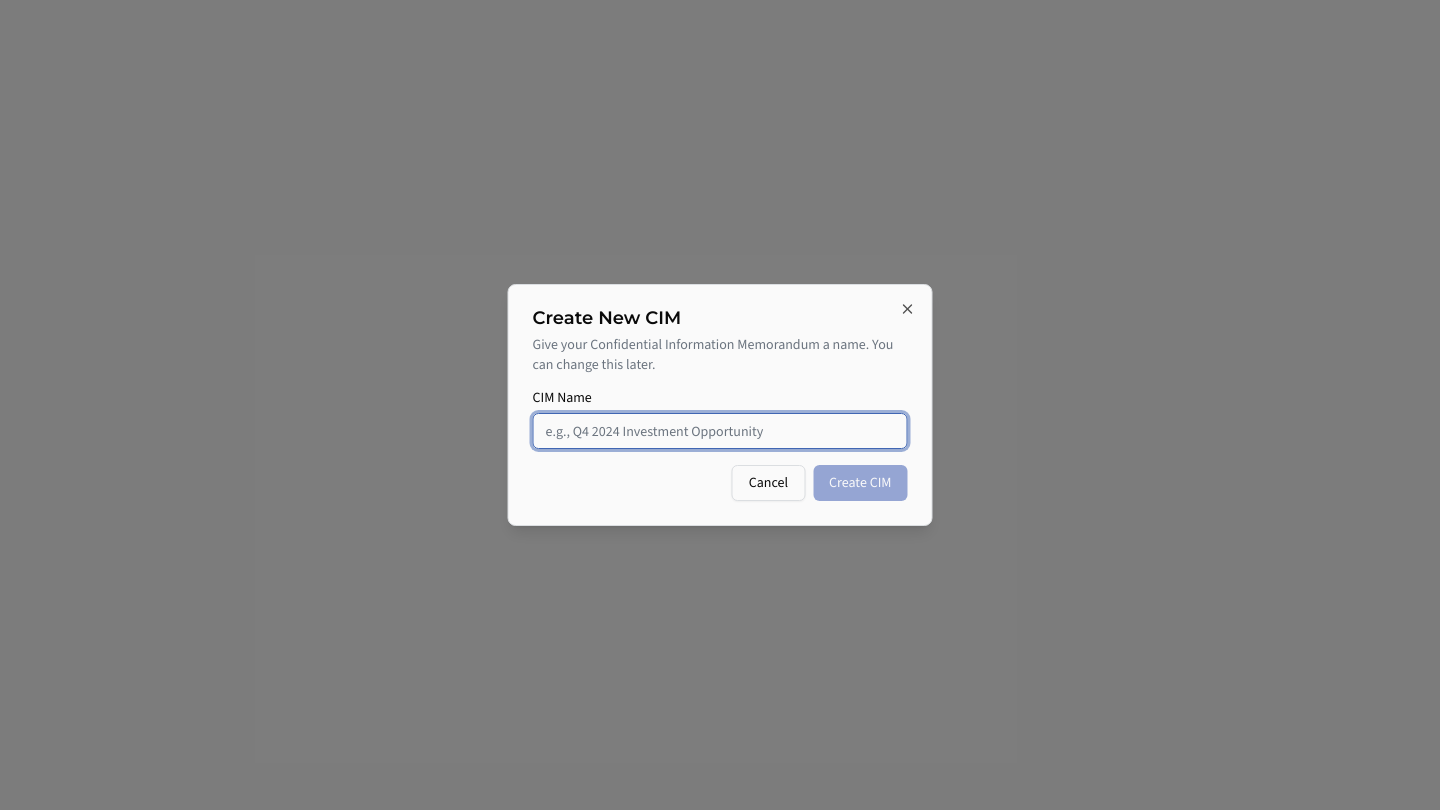
Test: CreateCIMDialog › validation › should show error for name less than 3 characters
Type "AB" into the field labelled "CIM Name" at (720, 431), box [532,413,908,449]
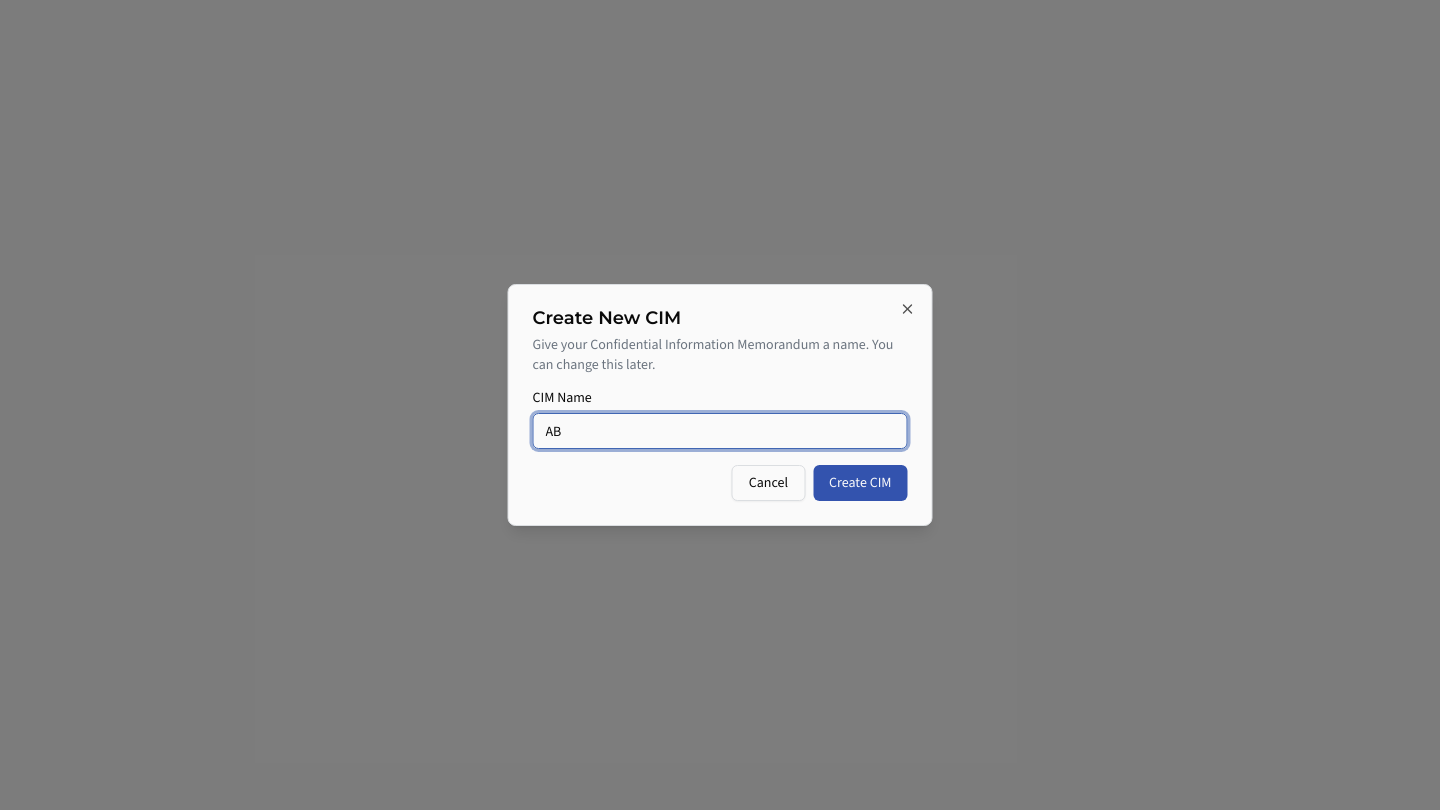
Click the button "Create CIM" at (860, 483), box [813,465,908,501]
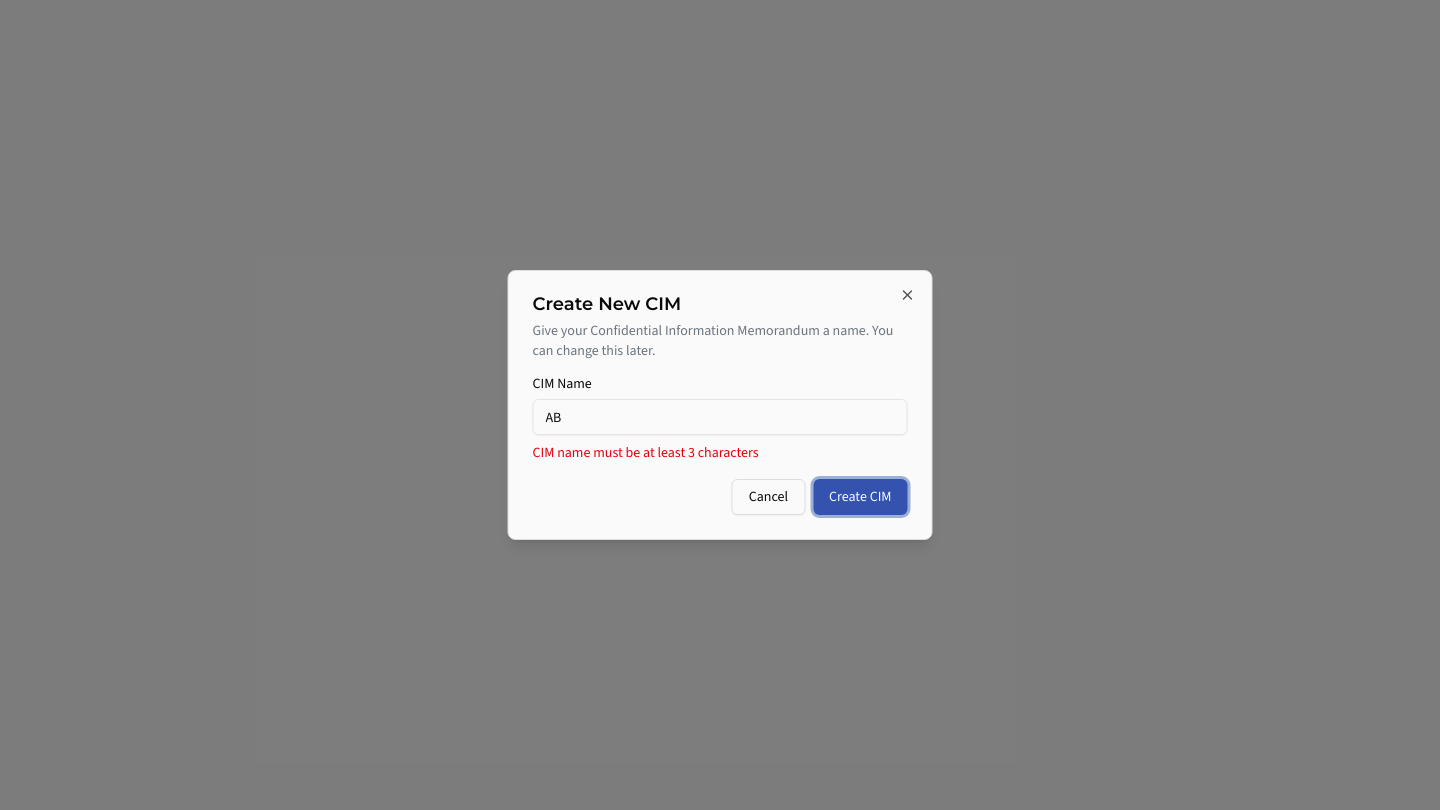
Expected: the text "CIM name must be at least 3 characters" is shown, [532,443,759,462]
